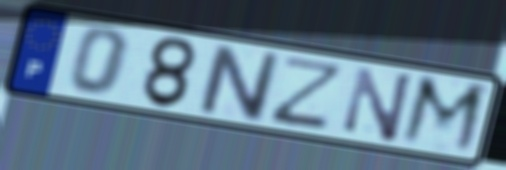0: (66, 24, 132, 99)
8: (140, 35, 199, 111)
M: (396, 71, 493, 159)
N: (196, 40, 282, 125), (340, 64, 417, 146)
Z: (265, 54, 349, 132)
